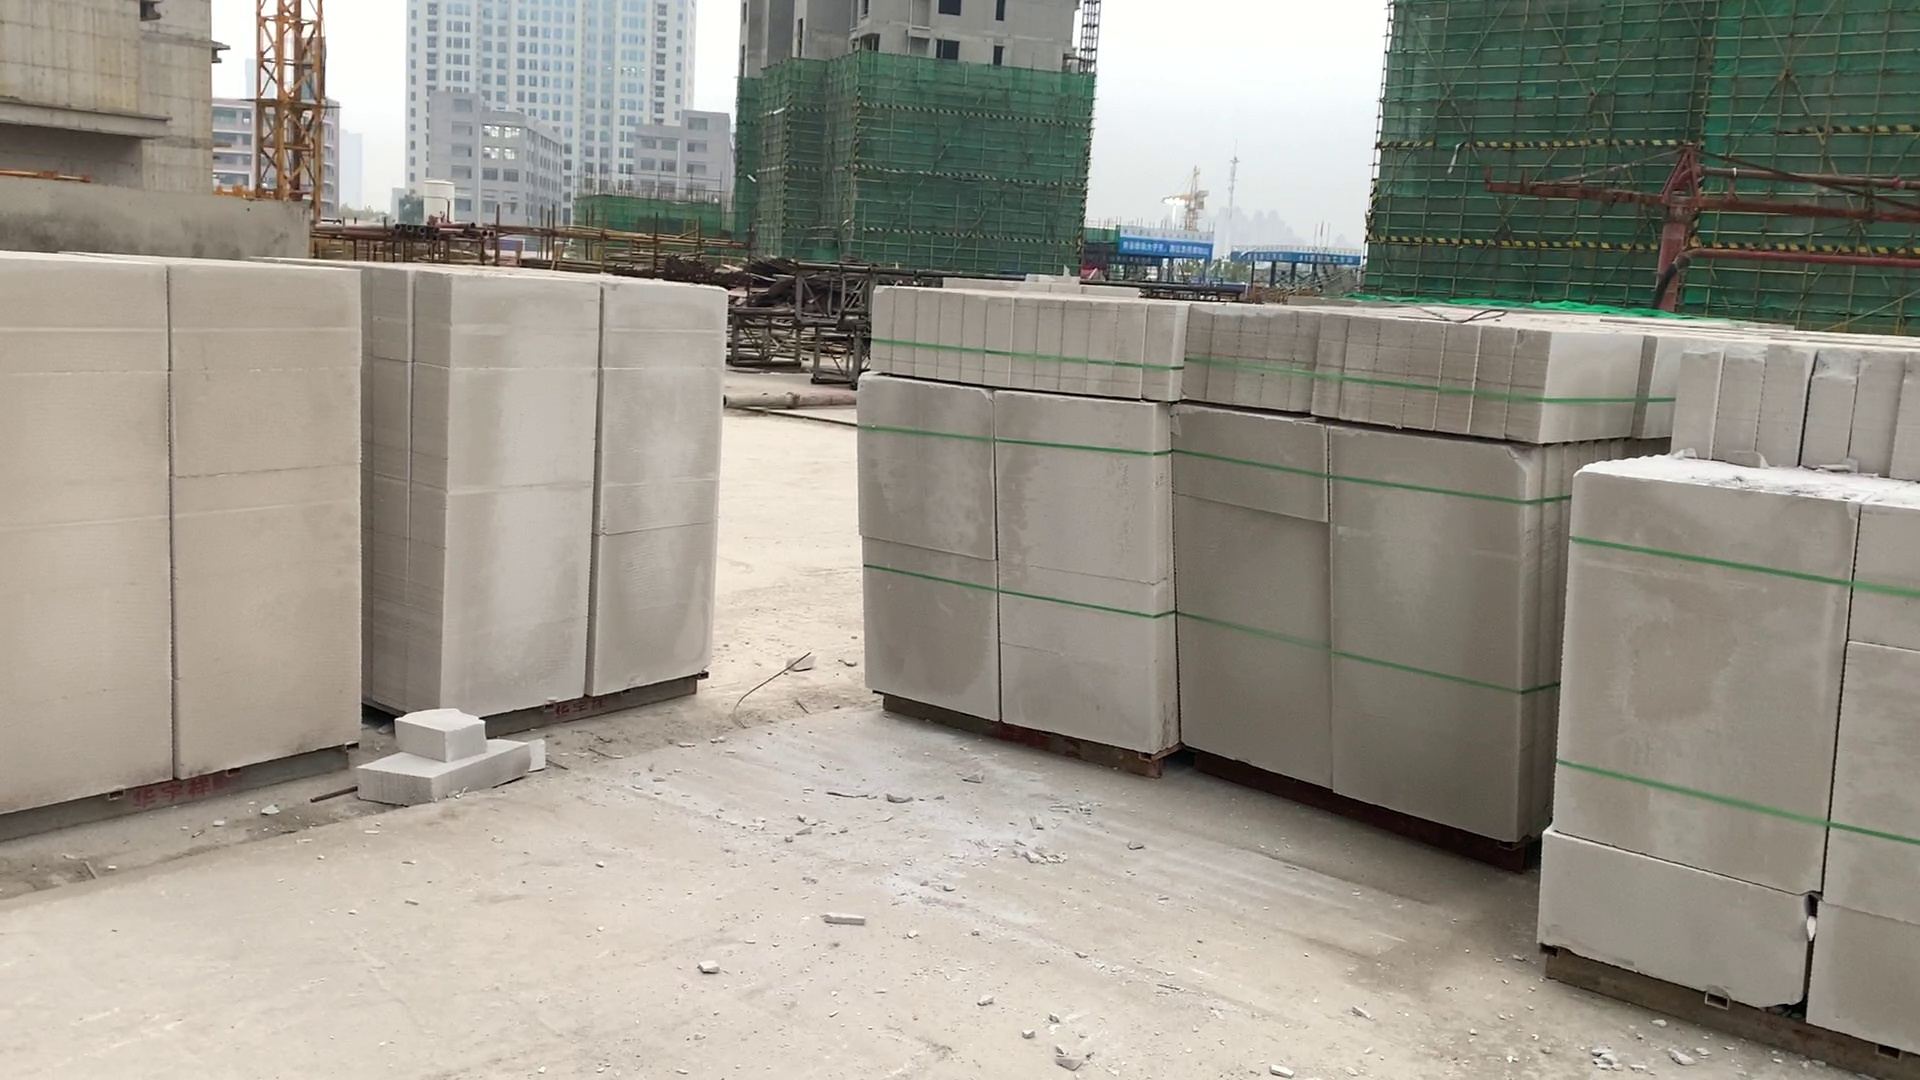brickwork: (1567, 342, 1919, 1065), (3, 253, 364, 811), (1182, 302, 1530, 852), (372, 264, 711, 702), (856, 287, 1160, 762)
